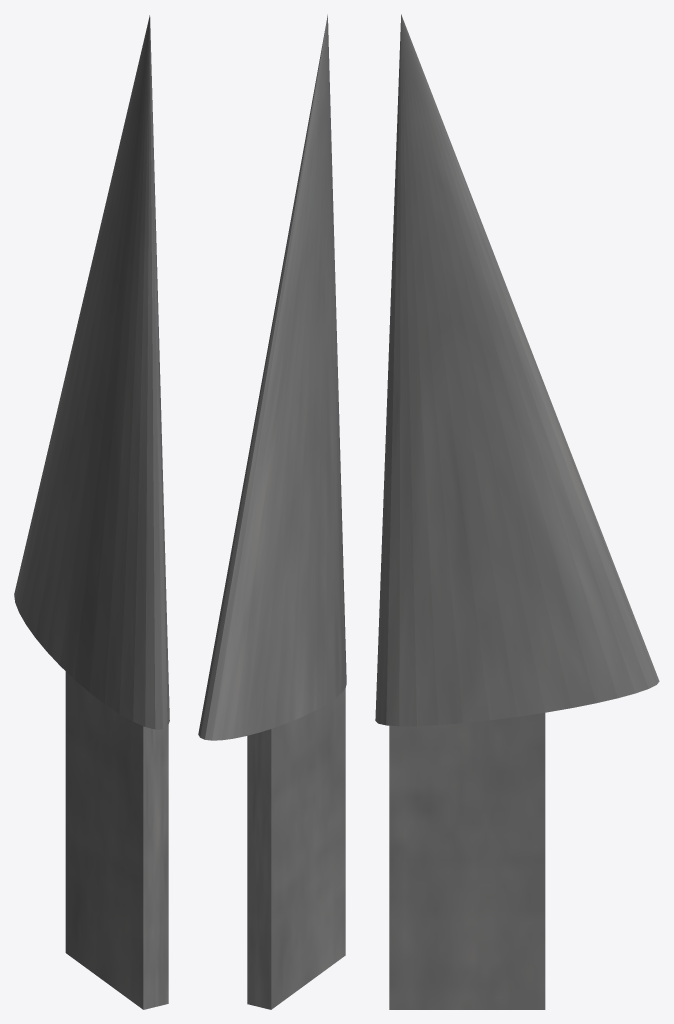
The model's file is Knife.fbx.
3 renders of one model, left to right at view 1: azimuth 30°, elevation 25°; view 2: azimuth 150°, elevation 25°; view 3: azimuth 270°, elevation 25°, orthographic. The views are drawn at different scales.
Visible parts, largest first — view 1: Cone, Cube; view 2: Cone, Cube; view 3: Cone, Cube.
Part boxes in pixels (x1,y1,x2,y2): Cone: [14, 15, 169, 729]; Cube: [65, 671, 168, 1009]; Cone: [198, 14, 346, 740]; Cube: [247, 688, 345, 1009]; Cone: [375, 14, 659, 726]; Cube: [389, 713, 545, 1009].
Size of the model in its own units: 1.99 by 29.18 by 7.59.
2 materials, 2 textured.
